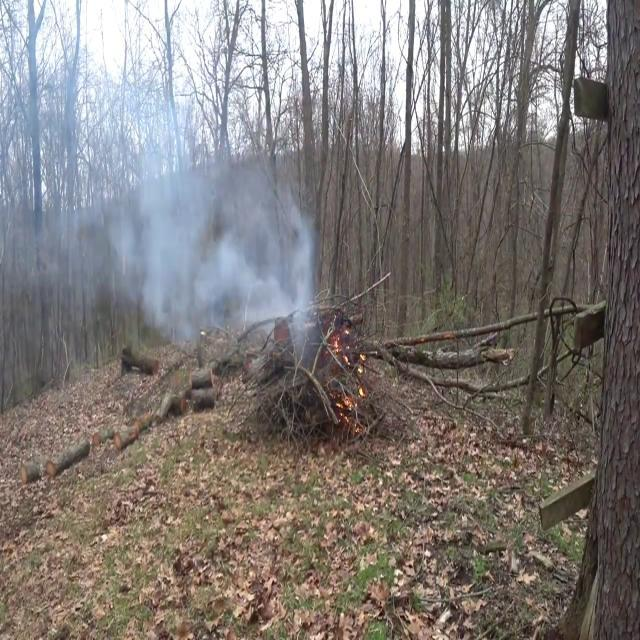Smoke: (102, 76, 322, 357)
